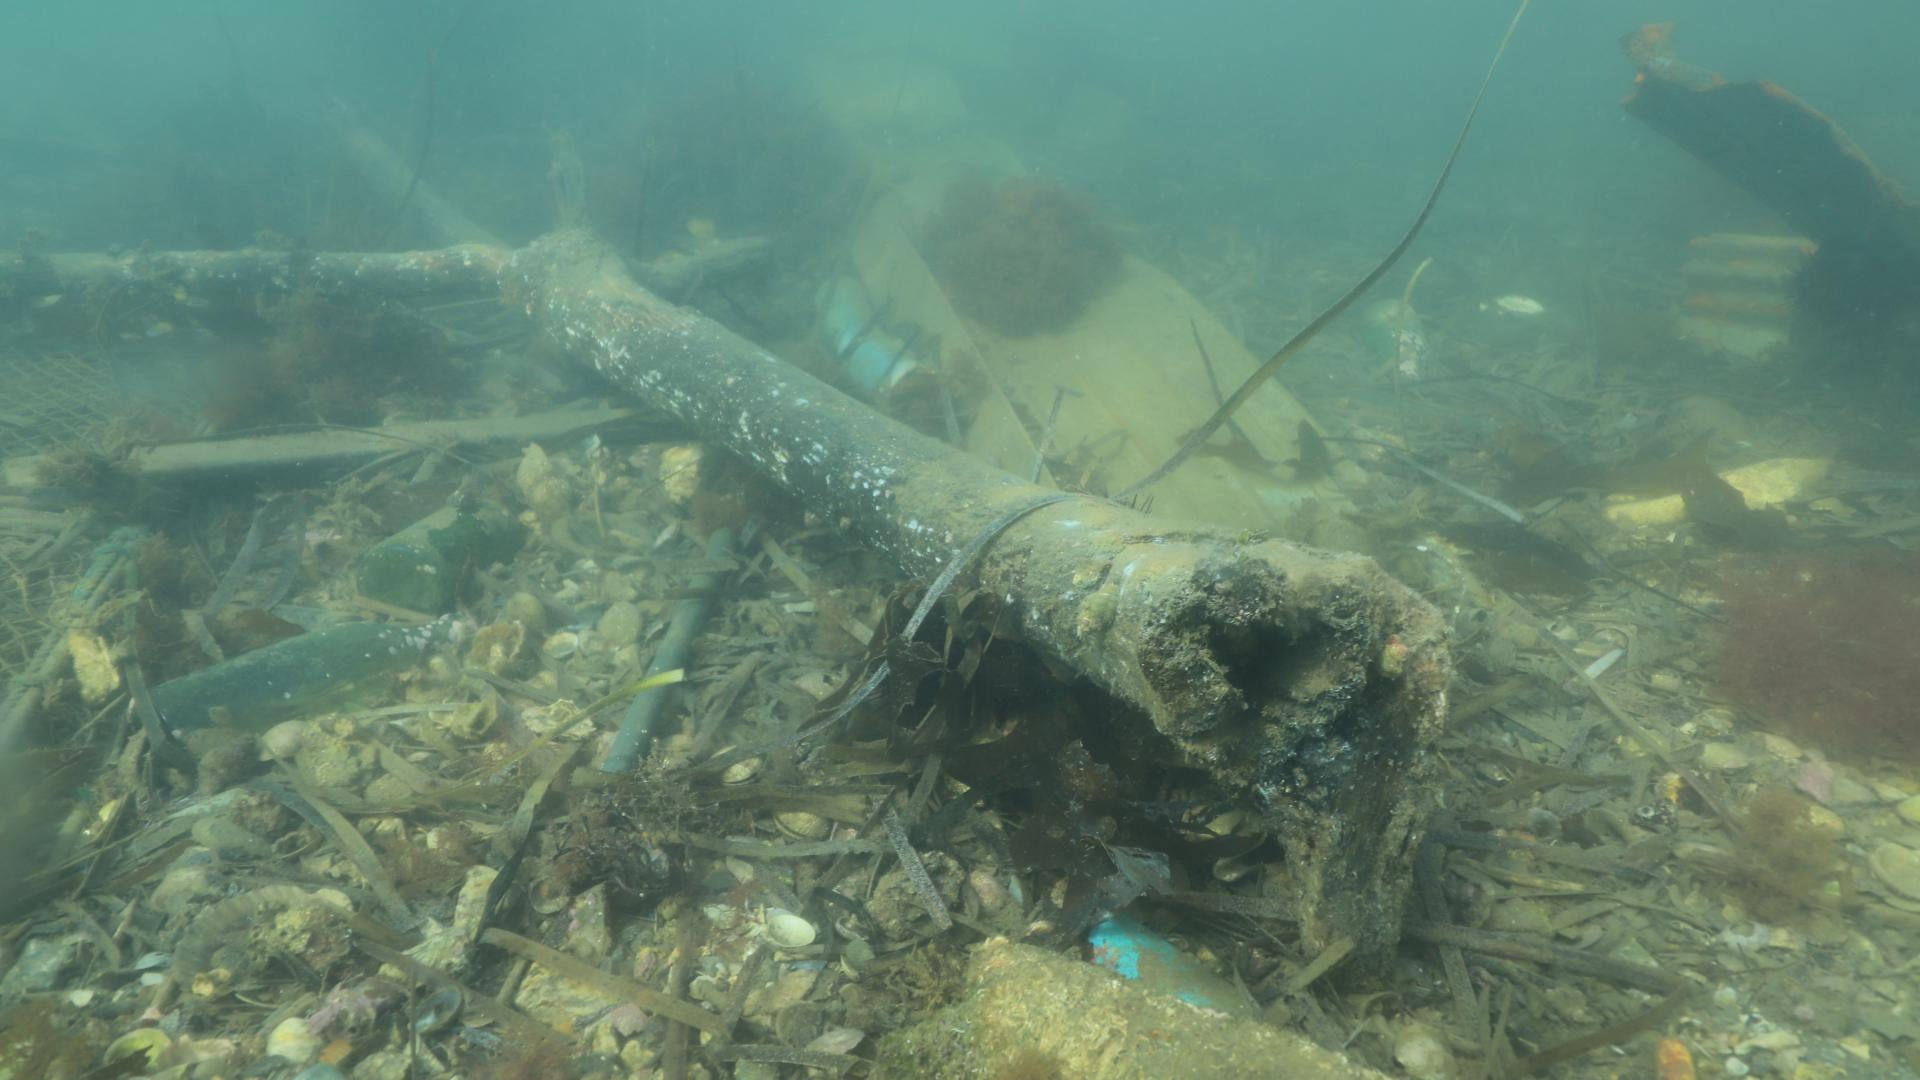wood: (0, 109, 1443, 880)
